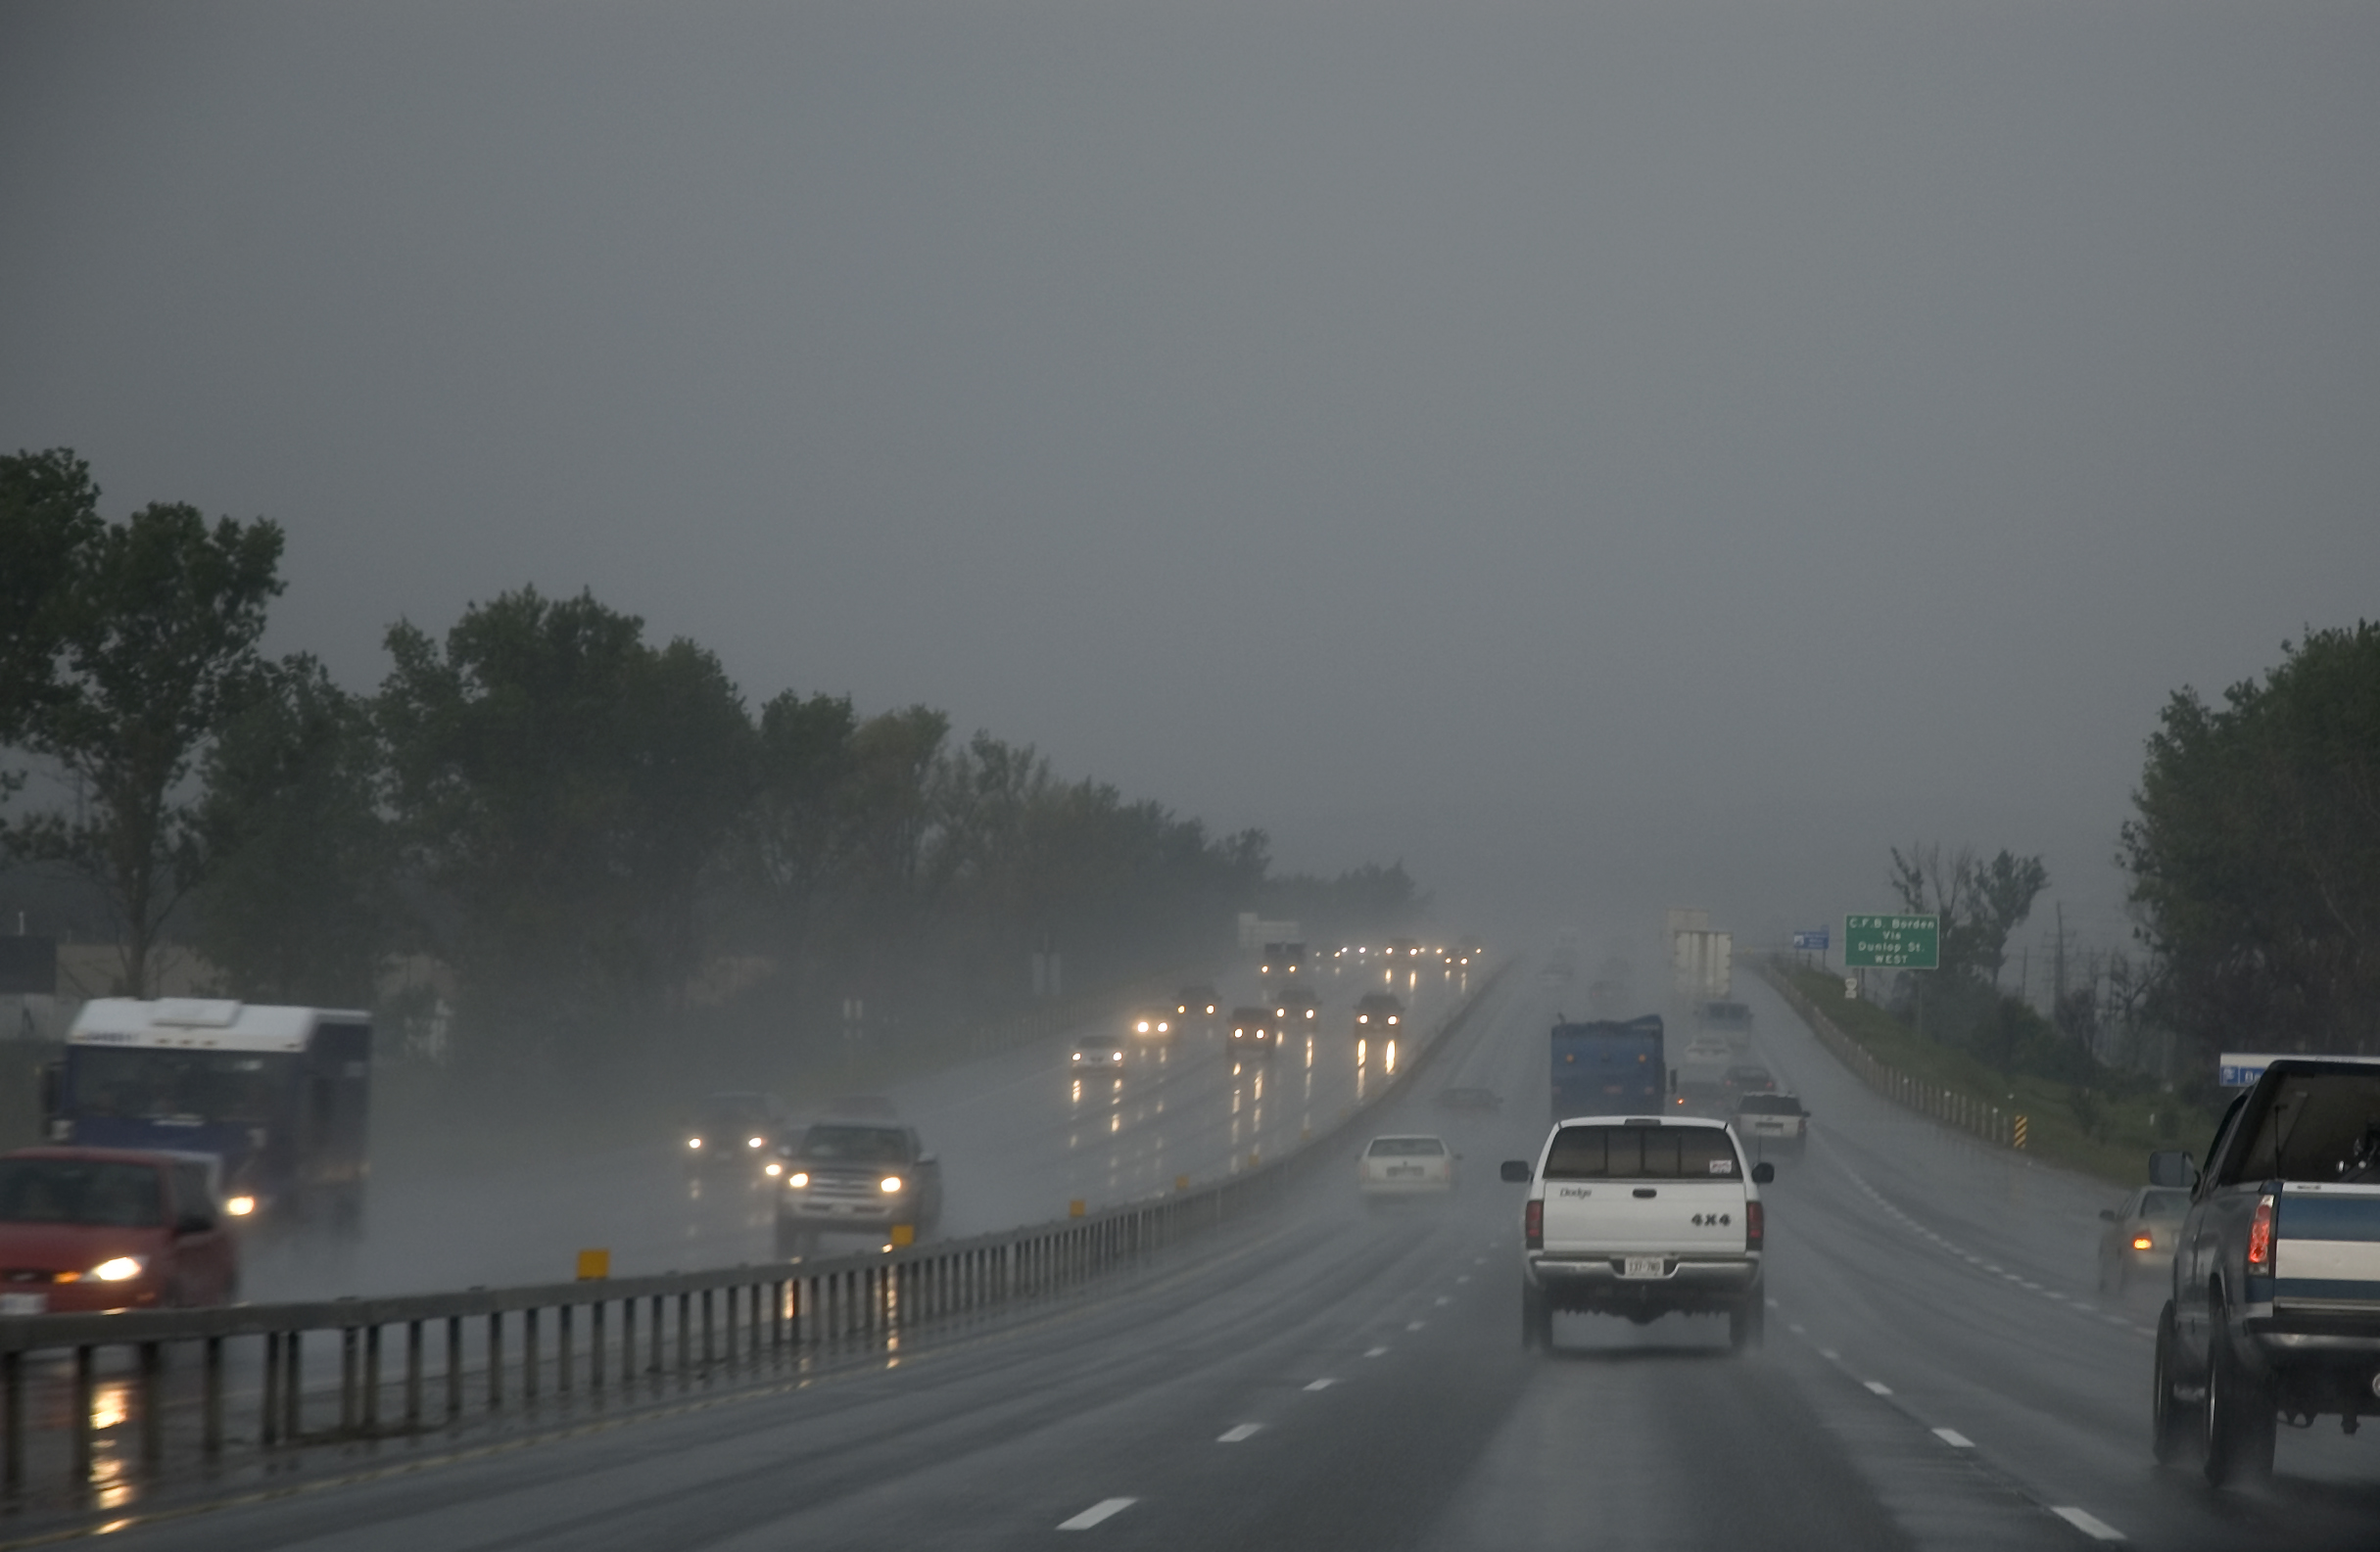car: (2148, 1058, 2378, 1500), (1497, 1117, 1768, 1347), (0, 1141, 255, 1320), (768, 1110, 937, 1259), (2089, 1172, 2198, 1294), (1355, 1132, 1455, 1200), (685, 1094, 777, 1167), (1733, 1089, 1811, 1164), (1426, 1087, 1504, 1132), (1693, 999, 1754, 1054), (1223, 1006, 1277, 1058), (1070, 1030, 1126, 1077), (1350, 988, 1405, 1035), (762, 1124, 803, 1184), (1169, 983, 1226, 1023), (1272, 983, 1322, 1027), (1671, 1080, 1726, 1118), (1254, 945, 1306, 985), (1129, 1007, 1178, 1046), (1679, 1032, 1731, 1066), (1719, 1063, 1778, 1092), (1587, 978, 1631, 1013), (1383, 935, 1419, 968), (1533, 964, 1566, 990), (1442, 949, 1471, 973), (1417, 936, 1447, 961), (1341, 936, 1369, 959), (1313, 943, 1339, 966)
truck: (33, 1004, 369, 1281), (1551, 1020, 1667, 1115), (1671, 928, 1733, 1027)
